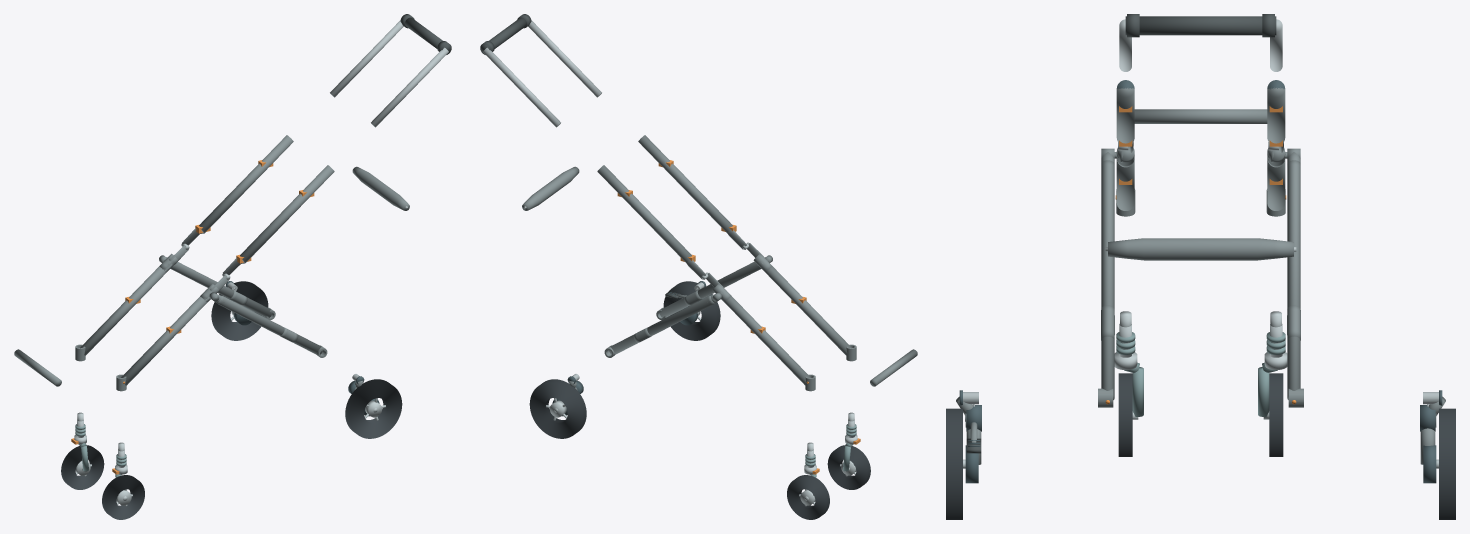
File: w380_state6.glb
3 views of the same model, side by side, from view 1: azimuth 30°, elevation 25°; view 2: azimuth 150°, elevation 25°; view 3: azimuth 270°, elevation 25° (orthographic). The views are drawn at different scales.
Visible parts, largest first — view 1: RL_tire.003, RR_tire.003, FL_tire.003, main_upper_1.005, main_upper_-1.005, FR_tire.003, main_lower_1.005, main_lower_-1.005, V46_rear_leg_-1.005, V46_rear_leg_1.005, V46_rearbar.005, handle_slider_-1.003 (+1 smaller); view 2: RR_tire.003, RL_tire.003, FR_tire.003, main_upper_-1.005, main_upper_1.005, FL_tire.003, main_lower_-1.005, main_lower_1.005, V46_rear_leg_1.005, V46_rear_leg_-1.005, V46_rearbar.005, handle_slider_1.003 (+1 smaller); view 3: V46_rearbar.005, V46_rear_leg_1.005, V46_rear_leg_-1.005, round_handle.003, front_fixed_round_tube.003, RL_tire.003, RR_tire.003, FL_tire.003, FR_tire.003, main_upper_1.005, main_upper_-1.005, main_lower_1.005 (+1 smaller).
Part boxes in pixels (x1=…): RL_tire.003: x1=345, y1=379, x2=402, y2=438; RR_tire.003: x1=211, y1=281, x2=268, y2=340; FL_tire.003: x1=102, y1=475, x2=144, y2=519; main_upper_1.005: x1=199, y1=135, x2=293, y2=232; main_upper_-1.005: x1=240, y1=165, x2=334, y2=262; FR_tire.003: x1=61, y1=445, x2=104, y2=489; main_lower_1.005: x1=80, y1=264, x2=172, y2=355; main_lower_-1.005: x1=121, y1=297, x2=209, y2=385; V46_rear_leg_-1.005: x1=217, y1=295, x2=322, y2=354; V46_rear_leg_1.005: x1=170, y1=262, x2=272, y2=317; V46_rearbar.005: x1=352, y1=166, x2=409, y2=210; handle_slider_-1.003: x1=371, y1=47, x2=448, y2=127; RR_tire.003: x1=529, y1=379, x2=586, y2=438; RL_tire.003: x1=663, y1=281, x2=720, y2=340; FR_tire.003: x1=787, y1=475, x2=829, y2=519; main_upper_-1.005: x1=638, y1=135, x2=732, y2=232; main_upper_1.005: x1=597, y1=165, x2=691, y2=262; FL_tire.003: x1=827, y1=445, x2=870, y2=489; main_lower_-1.005: x1=759, y1=264, x2=851, y2=355; main_lower_1.005: x1=722, y1=297, x2=810, y2=385; V46_rear_leg_1.005: x1=609, y1=295, x2=714, y2=354; V46_rear_leg_-1.005: x1=659, y1=261, x2=761, y2=317; V46_rearbar.005: x1=522, y1=166, x2=579, y2=210; handle_slider_1.003: x1=483, y1=47, x2=560, y2=127; V46_rearbar.005: x1=1108, y1=238, x2=1293, y2=260; V46_rear_leg_1.005: x1=1287, y1=160, x2=1300, y2=399; V46_rear_leg_-1.005: x1=1101, y1=160, x2=1114, y2=399; round_handle.003: x1=1125, y1=16, x2=1276, y2=35; front_fixed_round_tube.003: x1=1134, y1=109, x2=1267, y2=123; RL_tire.003: x1=946, y1=408, x2=962, y2=519; RR_tire.003: x1=1439, y1=408, x2=1455, y2=519; FL_tire.003: x1=1118, y1=373, x2=1132, y2=456; FR_tire.003: x1=1269, y1=373, x2=1283, y2=456; main_upper_1.005: x1=1267, y1=82, x2=1285, y2=143; main_upper_-1.005: x1=1116, y1=82, x2=1134, y2=143; main_lower_1.005: x1=1267, y1=156, x2=1285, y2=210.
Bounding box in the file's own units: 1.51 × 1.44 × 0.914.
